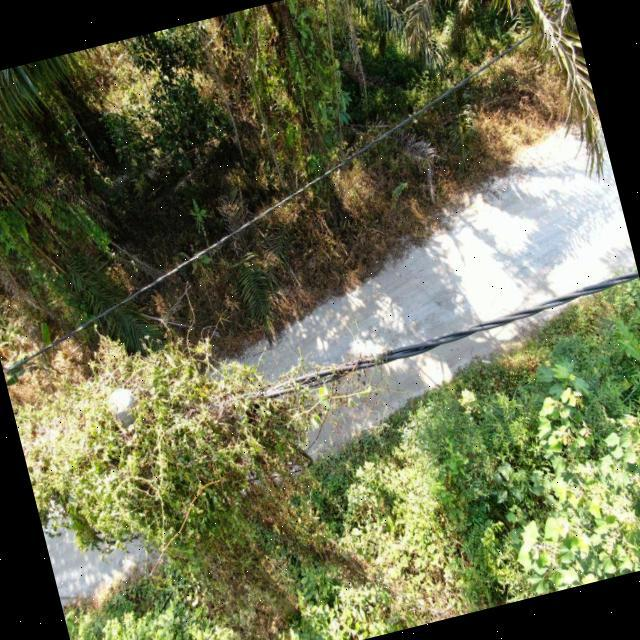critical vegetation: (0, 259, 433, 640)
